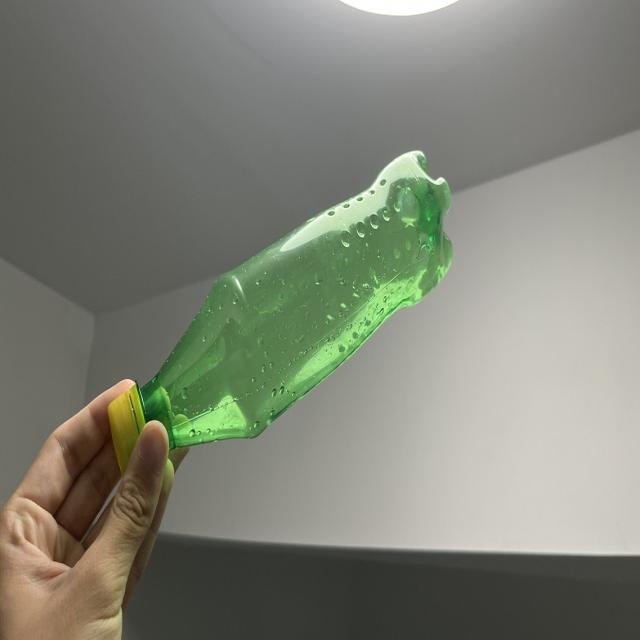empty: (110, 152, 451, 469)
